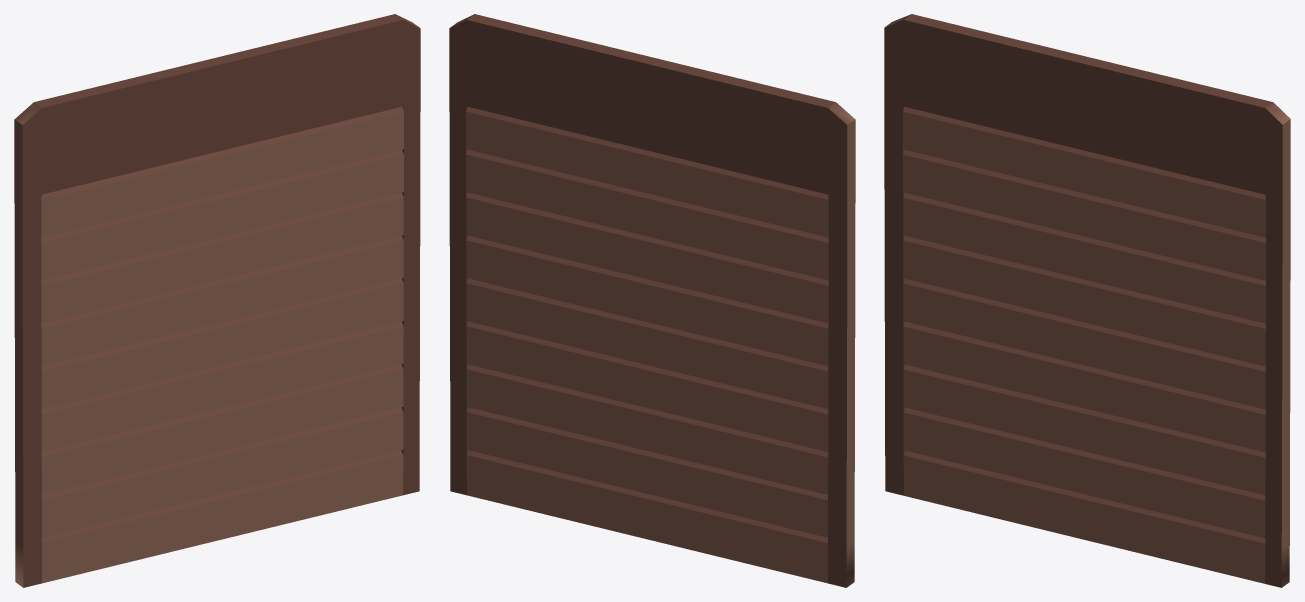
Rendered from SM_Buildings_FireStation_01_Door_01.fbx.
The picture shows the model from 3 angles, left to right: view 1: azimuth 30°, elevation 25°; view 2: azimuth 150°, elevation 25°; view 3: azimuth 330°, elevation 25°; orthographic projection.
Parts seen in each view (by area): view 1: SM_Buildings_FireStation_01_Door_01; view 2: SM_Buildings_FireStation_01_Door_01; view 3: SM_Buildings_FireStation_01_Door_01.
Boxes of the visible parts, x1,y1,x2,y2 form: SM_Buildings_FireStation_01_Door_01: [14, 14, 420, 587]; SM_Buildings_FireStation_01_Door_01: [449, 14, 855, 587]; SM_Buildings_FireStation_01_Door_01: [884, 14, 1290, 587].
Bounding box in the file's own units: 2.71 × 3.09 × 0.0947.
